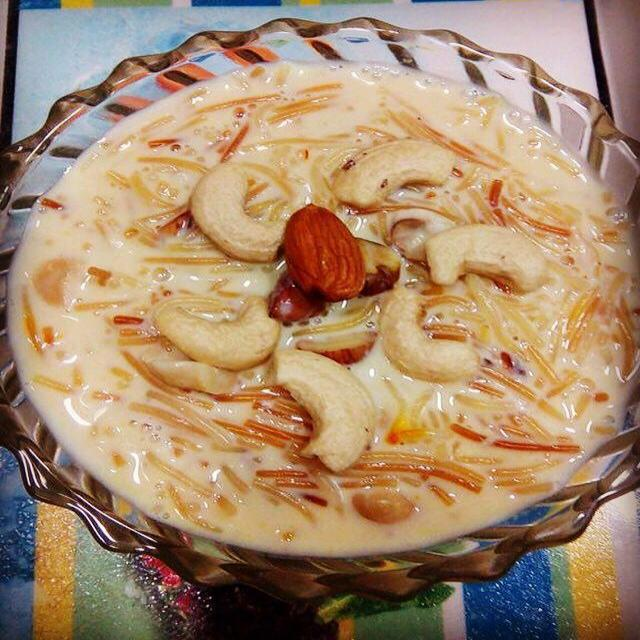shavige payasa: (0, 38, 640, 581)
